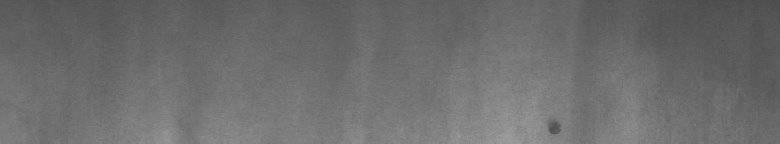fi: (544, 112, 564, 136)
